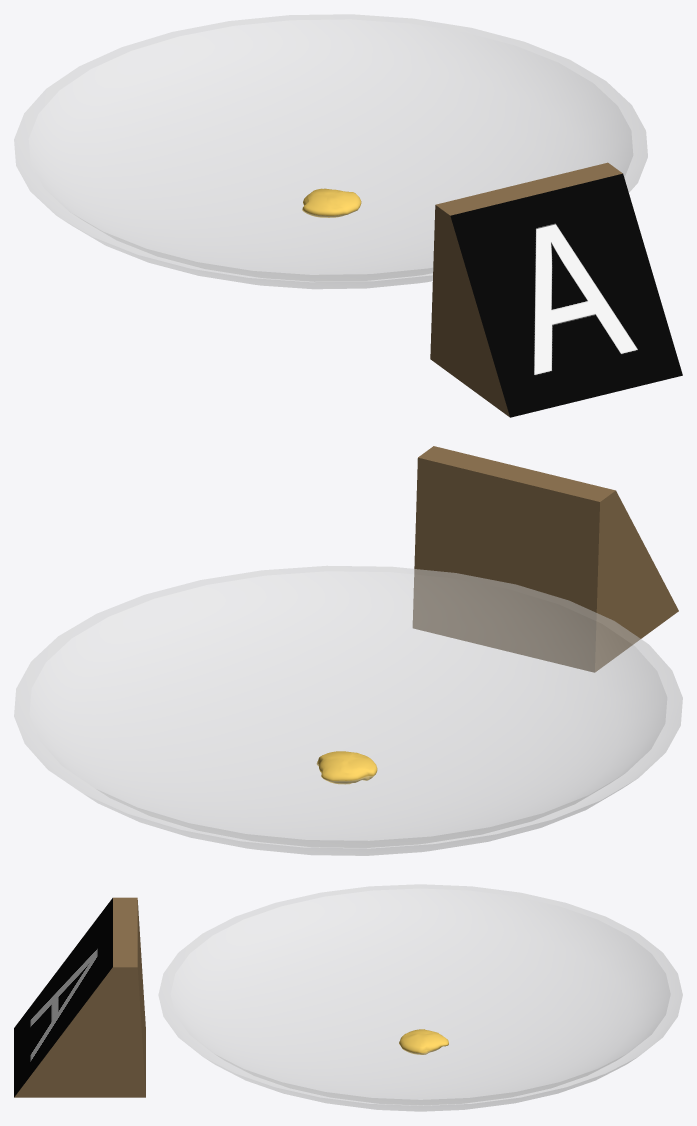
File: Sample A.fbx
3 views of the same model, one above another, from view 1: azimuth 30°, elevation 25°; view 2: azimuth 150°, elevation 25°; view 3: azimuth 270°, elevation 25° (orthographic). The views are drawn at different scales.
Visible parts, largest first — view 1: Sphere.003, Cube.002, Sphere.004; view 2: Sphere.003, Cube.002, Sphere.004; view 3: Sphere.003, Cube.002, Sphere.004.
Part boxes in pixels (x1,y1,x2,y2): Sphere.003: (14,14,647,289); Cube.002: (430,162,682,417); Sphere.004: (302,188,361,217); Sphere.003: (14,565,682,855); Cube.002: (412,446,678,672); Sphere.004: (316,751,377,784); Sphere.003: (158,884,682,1111); Cube.002: (14,897,145,1097); Sphere.004: (399,1029,448,1054).
Size of the model in its own units: 8.63 by 2.37 by 11.01.
Materials: 4 (1 with a texture image).
